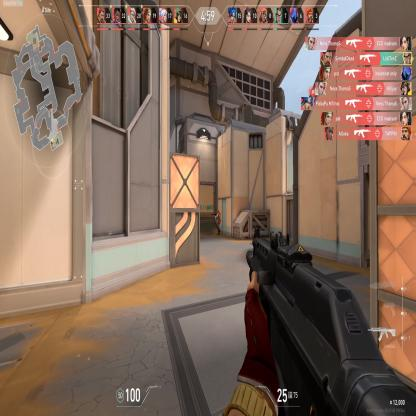enemy: (214, 208, 221, 236)
